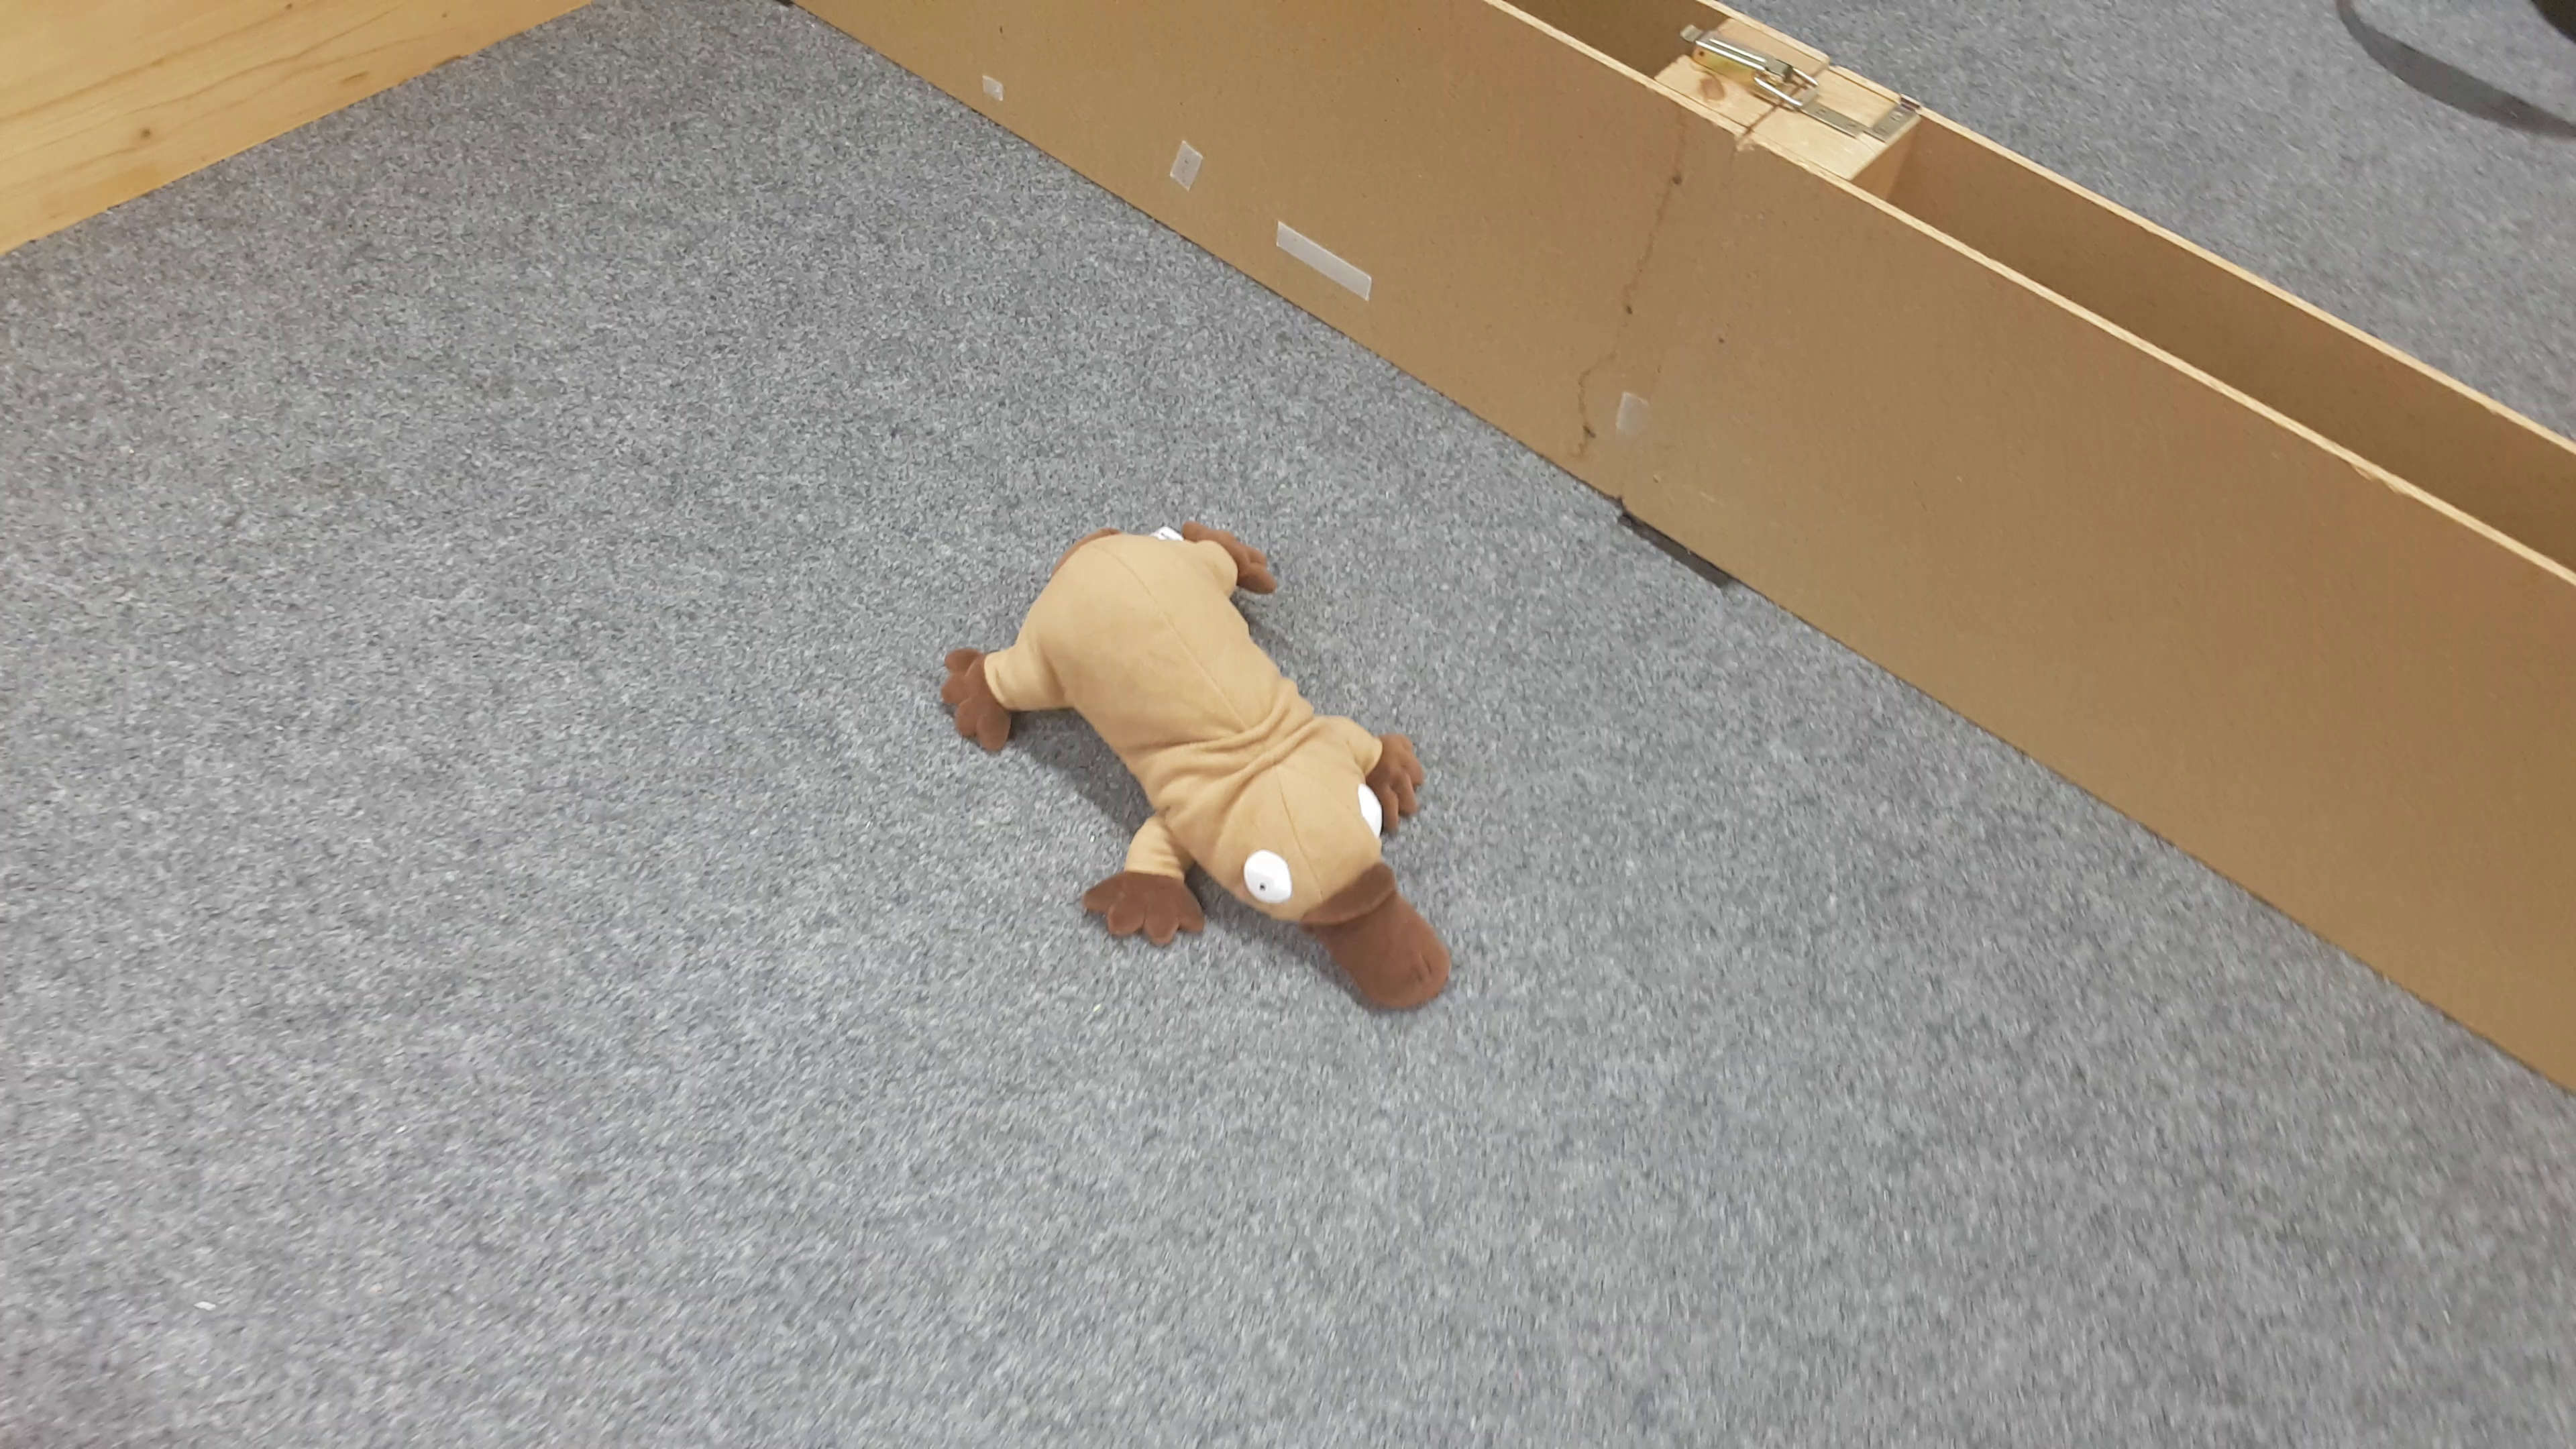grasp: (932, 513, 1460, 1019)
